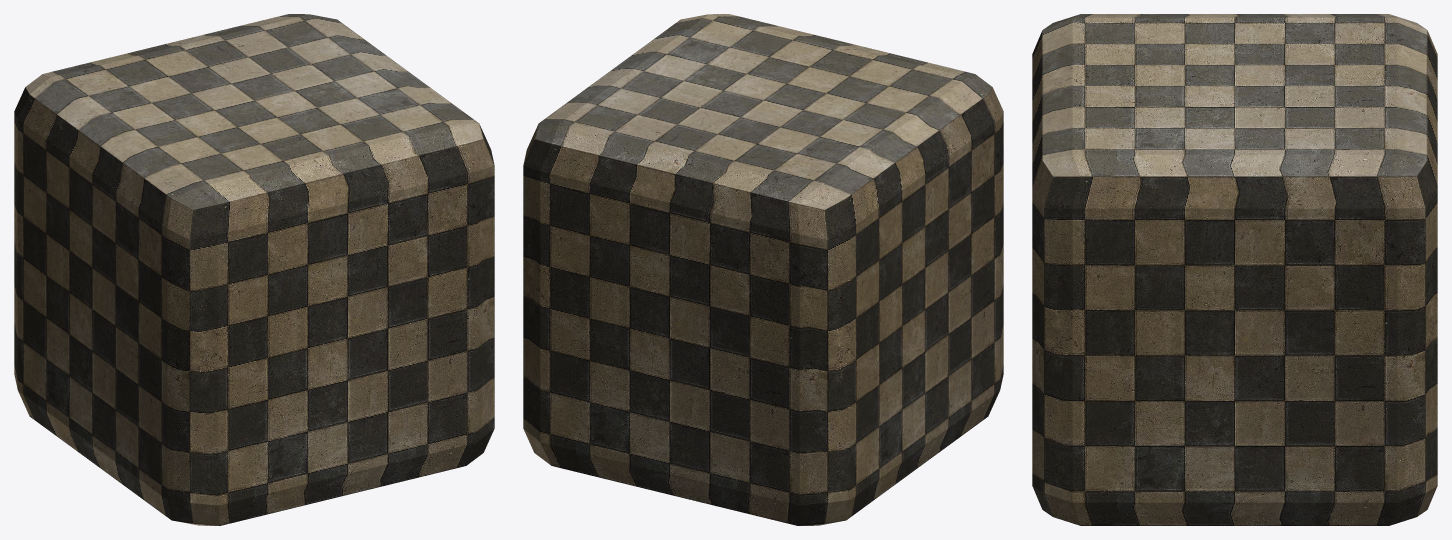
The model's file is CubeLight.fbx.
3 views of the same model, side by side, from view 1: azimuth 30°, elevation 25°; view 2: azimuth 150°, elevation 25°; view 3: azimuth 270°, elevation 25° (orthographic). The views are drawn at different scales.
Parts seen in each view (by area): view 1: Cube; view 2: Cube; view 3: Cube.
Boxes of the visible parts, box(x1,y1,x2,y2) form: Cube: box(14, 14, 494, 525); Cube: box(523, 14, 1003, 525); Cube: box(1032, 14, 1437, 525).
Bounding box in the file's own units: 200 × 200 × 200.
